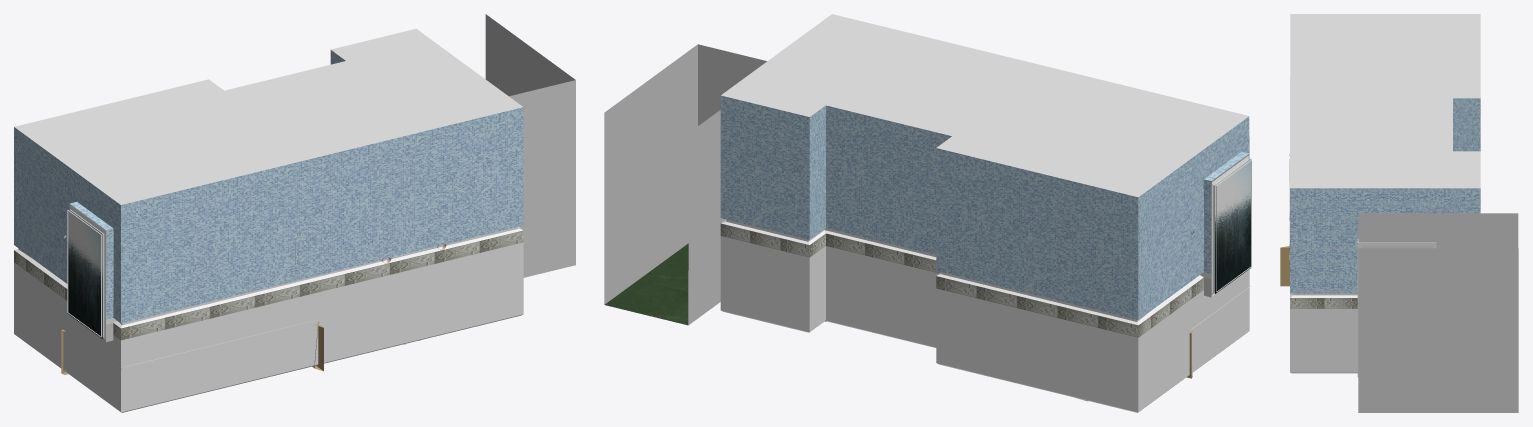
The model's file is Bathroom.fbx.
3 renders of one model, left to right at view 1: azimuth 30°, elevation 25°; view 2: azimuth 150°, elevation 25°; view 3: azimuth 270°, elevation 25°, orthographic. The views are drawn at different scales.
Parts seen in each view (by area): view 1: bathroom_walls.001, bathroom_walls.004, bathroom_walls.003, bathroom_walls.005, bathroom_walls.006, window, bathroom_walls.007, bathroom_walls.008; view 2: bathroom_walls.001, bathroom_walls.004, bathroom_walls.003, bathroom_walls.005, bathroom_walls.006, window, bathroom_walls, bathroom_walls.007, bathroom_walls.008; view 3: bathroom_walls.004, bathroom_walls.005, bathroom_walls.001, bathroom_walls.003, bathroom_walls.006, Door_frame, bath_border, bathroom_walls.007.
Part boxes in pixels (<box>): bathroom_walls.001: <box>14,50,523,323</box>; bathroom_walls.004: <box>14,28,523,341</box>; bathroom_walls.003: <box>14,242,523,412</box>; bathroom_walls.005: <box>106,14,575,342</box>; bathroom_walls.006: <box>14,230,523,340</box>; window: <box>67,208,102,338</box>; bathroom_walls.007: <box>14,226,523,328</box>; bathroom_walls.008: <box>37,314,522,412</box>; bathroom_walls.001: <box>720,95,1249,319</box>; bathroom_walls.004: <box>721,14,1251,296</box>; bathroom_walls.003: <box>720,236,1249,412</box>; bathroom_walls.005: <box>604,44,1211,325</box>; bathroom_walls.006: <box>720,223,1203,337</box>; window: <box>1215,158,1251,294</box>; bathroom_walls: <box>604,243,688,325</box>; bathroom_walls.007: <box>721,219,1211,325</box>; bathroom_walls.008: <box>721,310,1238,412</box>; bathroom_walls.004: <box>1290,14,1480,188</box>; bathroom_walls.005: <box>1358,213,1518,412</box>; bathroom_walls.001: <box>1290,98,1480,293</box>; bathroom_walls.003: <box>1290,308,1357,372</box>; bathroom_walls.006: <box>1290,298,1357,308</box>; Door_frame: <box>1357,238,1436,376</box>; bath_border: <box>1280,246,1289,286</box>; bathroom_walls.007: <box>1290,293,1357,297</box>.
Bounding box in the file's own units: 10000 × 3996 × 4606.
